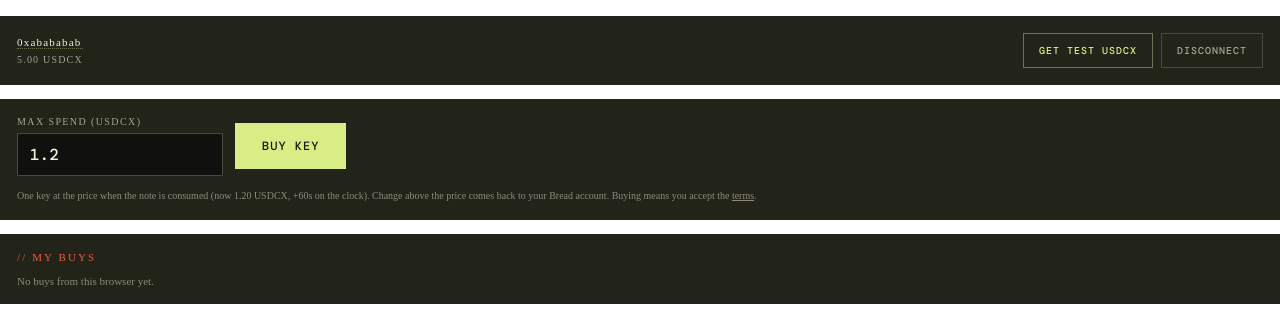
Test: PlayPanel › rejects a max spend that does not fit in a u32 and accepts the largest that does
Replace the text in the field with "4295" at (120, 154), box [17, 133, 223, 176]
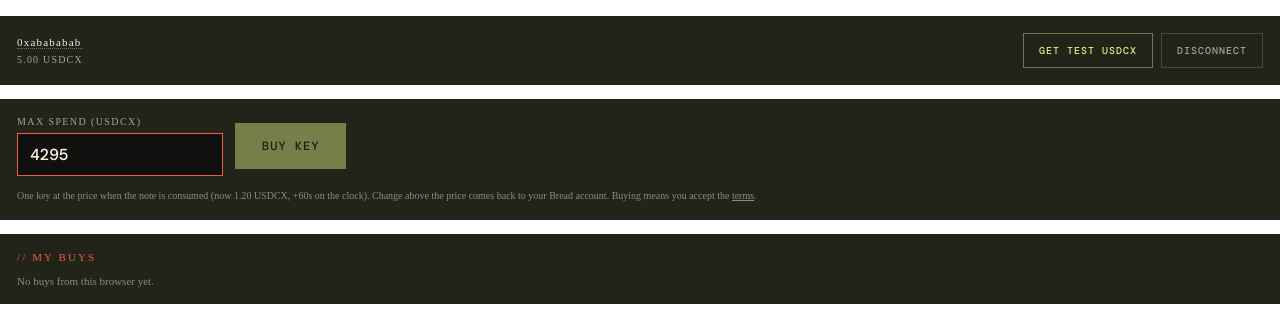
Expected: the button "BUY KEY" is disabled, [235, 123, 346, 169]
Replace the text in the field with "4294.967296" at (120, 154), box [17, 133, 223, 176]
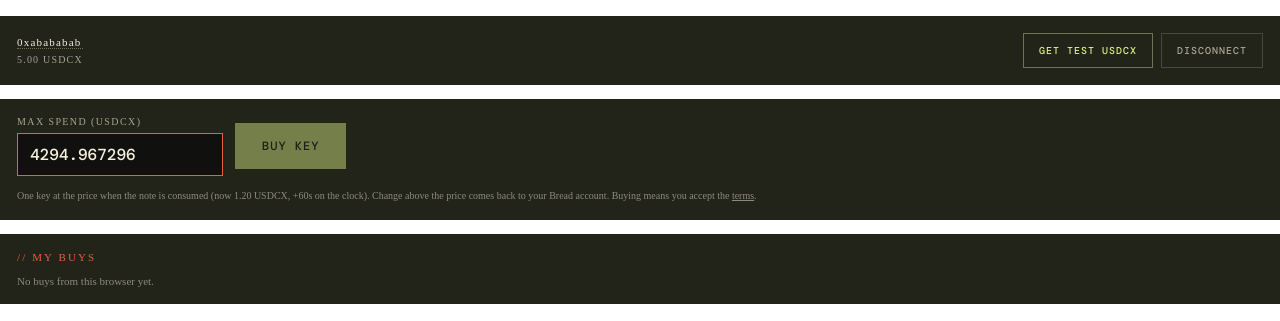
Expected: the button "BUY KEY" is disabled, [235, 123, 346, 169]
Replace the text in the field with "4294.967295" at (120, 154), box [17, 133, 223, 176]
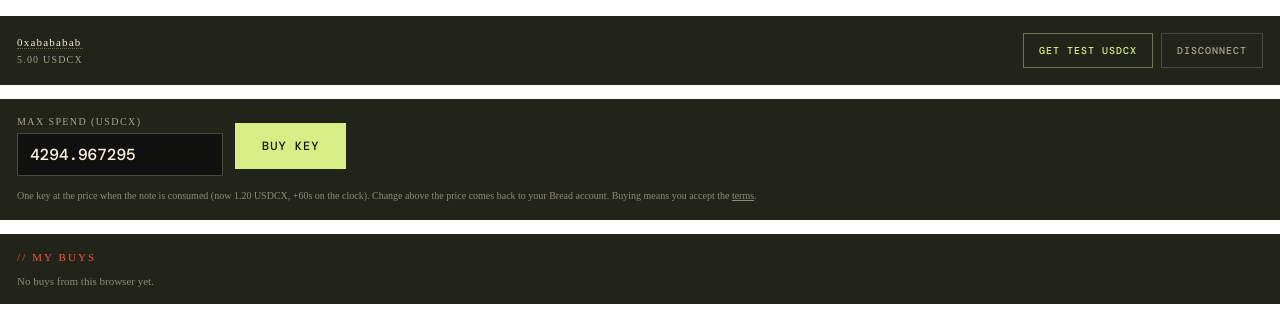
Expected: the button "BUY KEY" is enabled, [235, 123, 346, 169]
